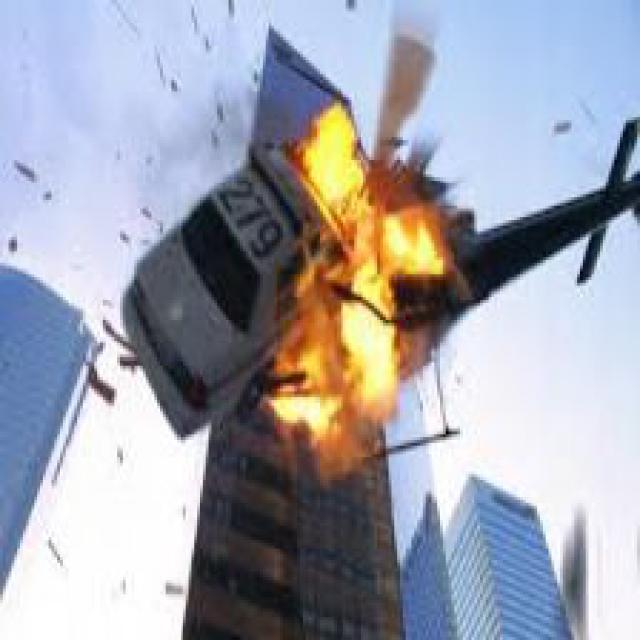fire: (272, 100, 457, 486)
